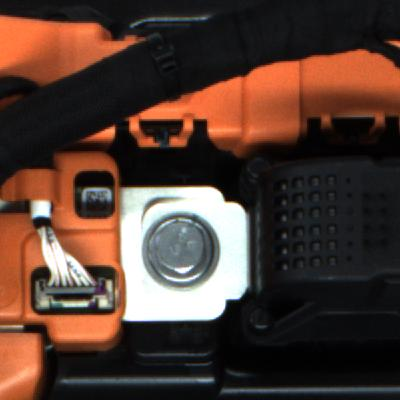nut_b: (136, 207, 246, 297)
